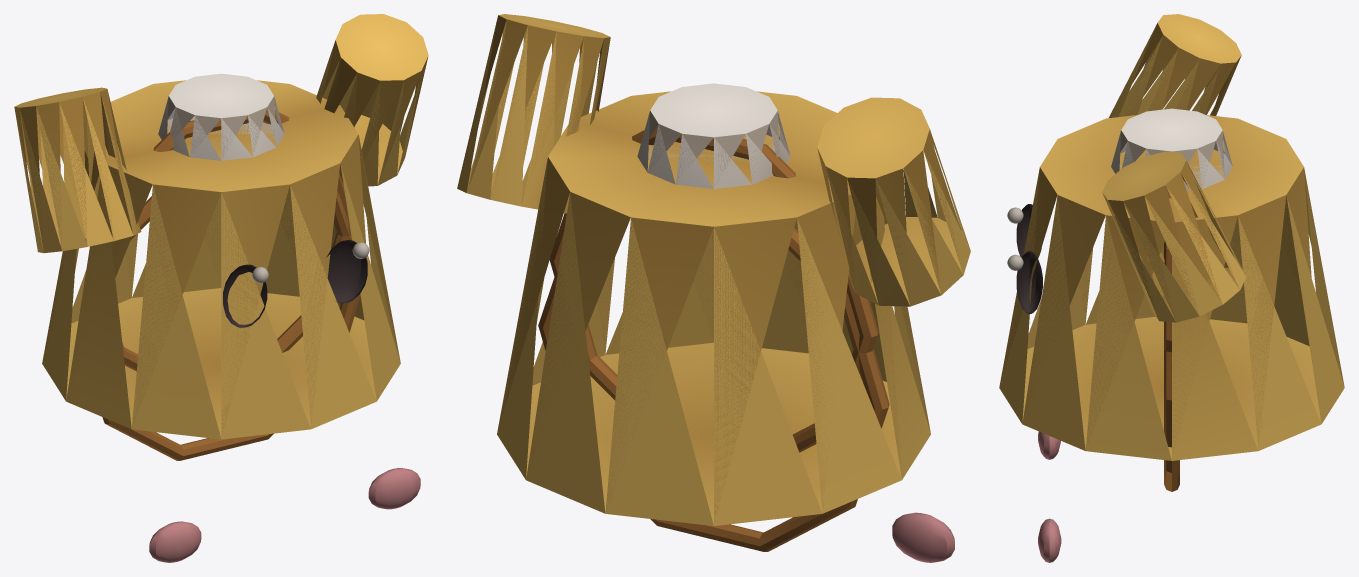
The model's file is pe3c49feb.glb.
3 views of the same model, side by side, from view 1: azimuth 30°, elevation 25°; view 2: azimuth 150°, elevation 25°; view 3: azimuth 270°, elevation 25° (orthographic). The views are drawn at different scales.
Parts seen in each view (by area): view 1: pet_pe3c49feb; view 2: pet_pe3c49feb; view 3: pet_pe3c49feb.
Boxes of the visible parts, x1,y1,x2,y2 form: pet_pe3c49feb: (14,14,428,562); pet_pe3c49feb: (457,14,970,562); pet_pe3c49feb: (999,14,1344,562).
Size of the model in its own units: 0.42 by 0.4522 by 0.34.
